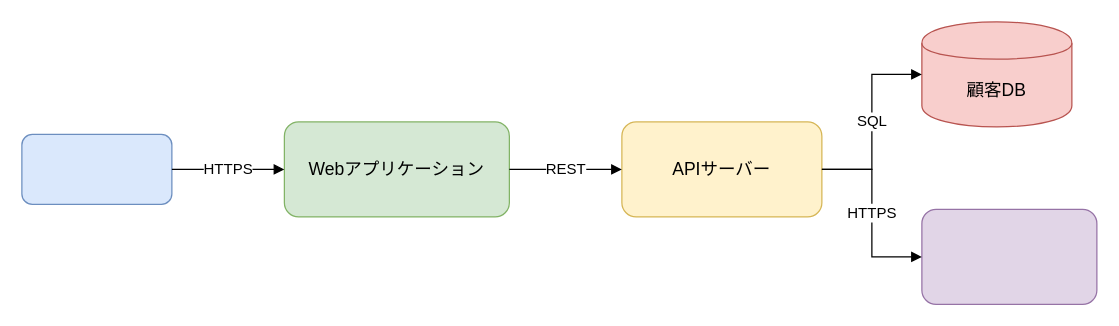
This 1119x326 diagram has some shape labels left out. Each missing label, with the centre of its shape:
利用者: (x=96, y=168)
外部連携API: (x=1009, y=256)
